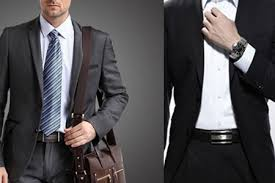F_M_suit jacket: (5, 17, 139, 174), (163, 5, 275, 176)
F_belt: (183, 121, 254, 155), (23, 126, 85, 151)
F_tie: (38, 29, 72, 139)
